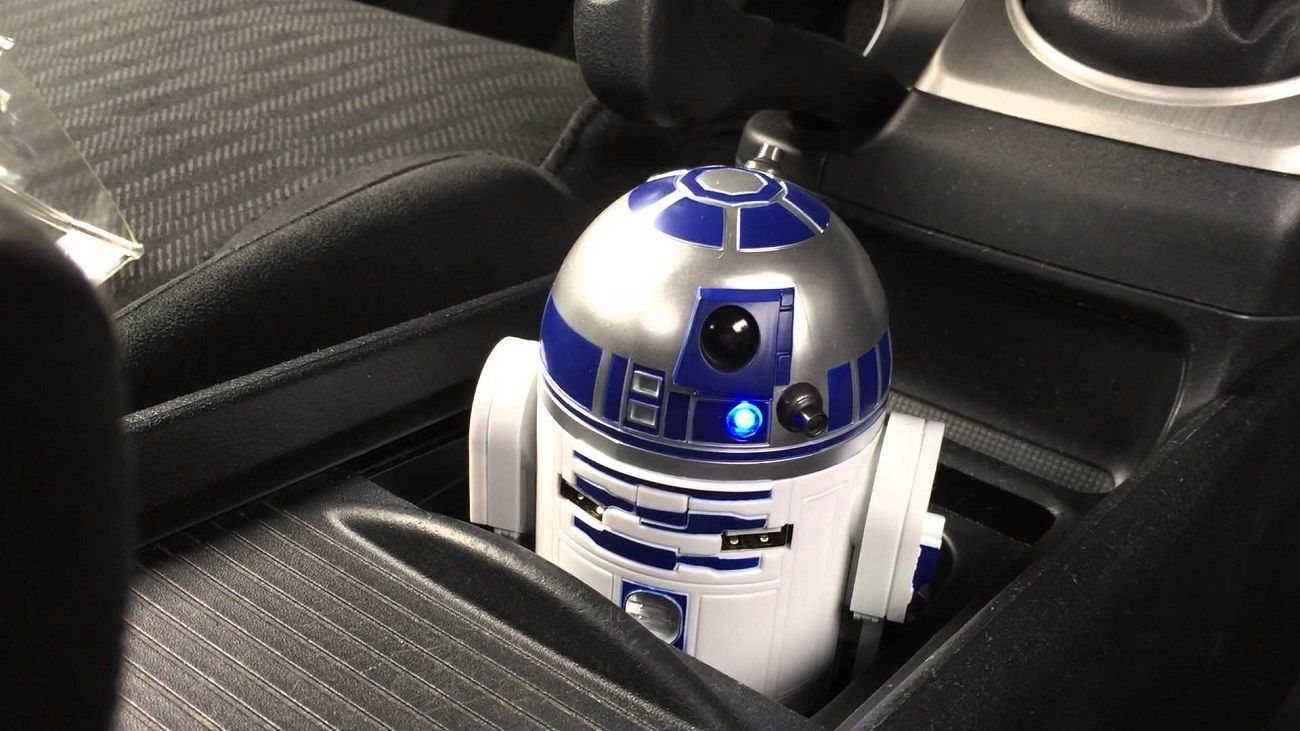r2d2: (469, 157, 947, 694)
